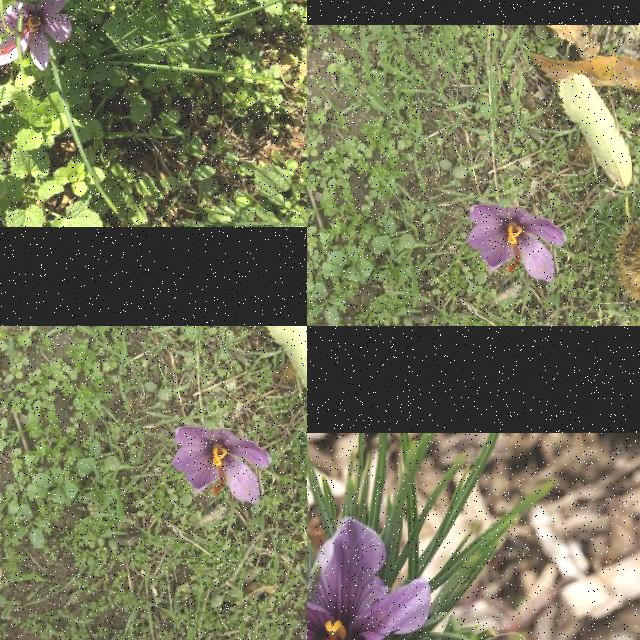flower: (467, 204, 568, 284), (172, 426, 272, 506), (0, 0, 72, 72)
